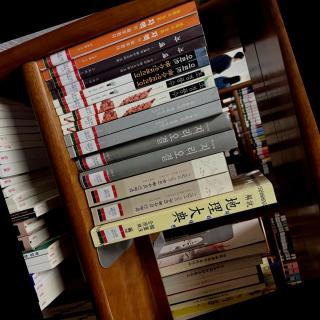book-spine: (90, 184, 277, 248), (35, 0, 198, 70), (41, 13, 200, 81), (46, 24, 205, 91), (50, 36, 207, 100), (74, 111, 233, 173), (77, 129, 238, 189), (52, 47, 207, 109), (54, 55, 210, 116), (58, 65, 213, 126), (63, 87, 220, 147), (60, 76, 216, 136), (66, 100, 223, 159), (84, 152, 228, 208), (89, 172, 233, 226)
